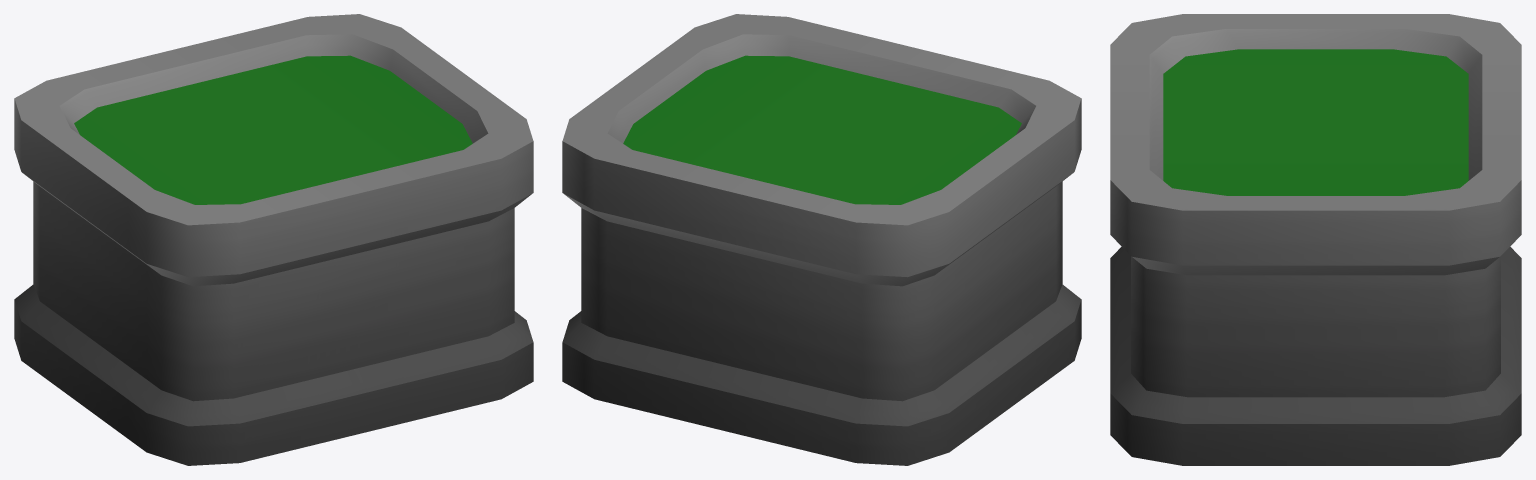
The model's file is FlowerPlacet_5_2_A.fbx.
3 views of the same model, side by side, from view 1: azimuth 30°, elevation 25°; view 2: azimuth 150°, elevation 25°; view 3: azimuth 270°, elevation 25° (orthographic). The views are drawn at different scales.
Parts seen in each view (by area): view 1: FlowerPlacet_5_2_A; view 2: FlowerPlacet_5_2_A; view 3: FlowerPlacet_5_2_A.
Boxes of the visible parts, x1=… form: FlowerPlacet_5_2_A: x1=14, y1=14, x2=533, y2=465; FlowerPlacet_5_2_A: x1=562, y1=14, x2=1081, y2=465; FlowerPlacet_5_2_A: x1=1110, y1=14, x2=1521, y2=465.
Size of the model in its own units: 143 by 86.38 by 126.
